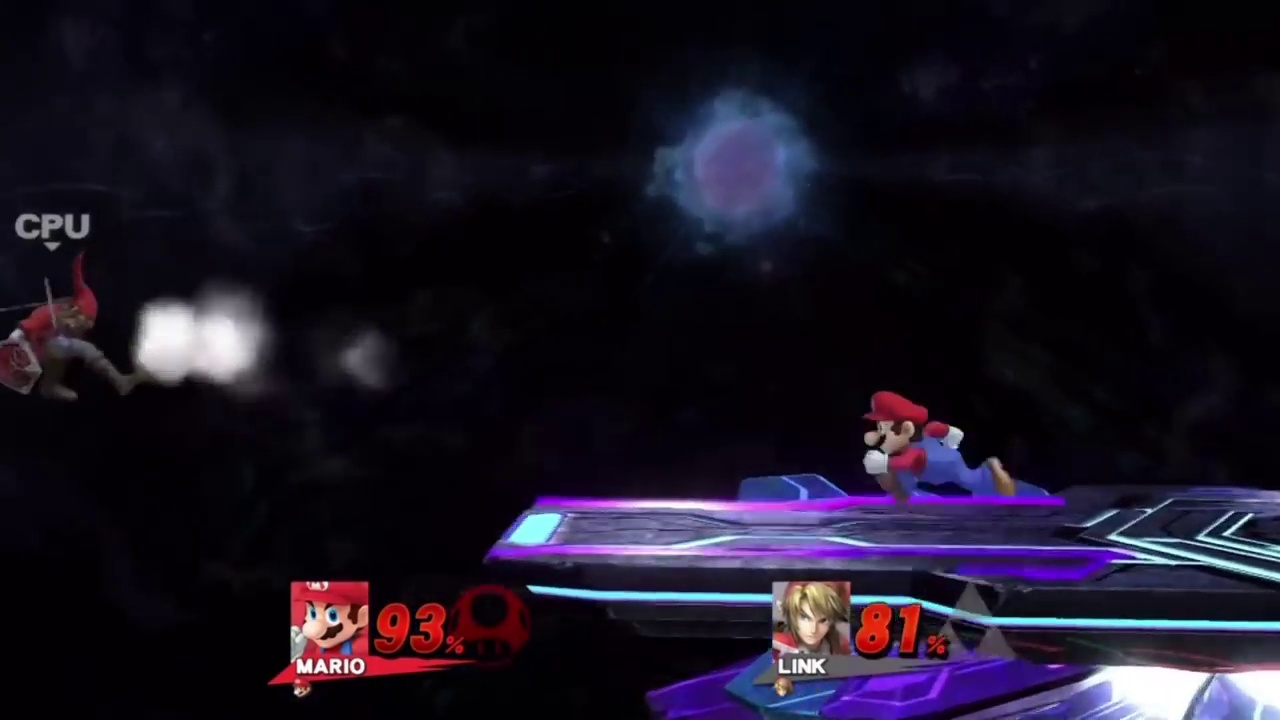Mario: (858, 388, 1014, 507)
